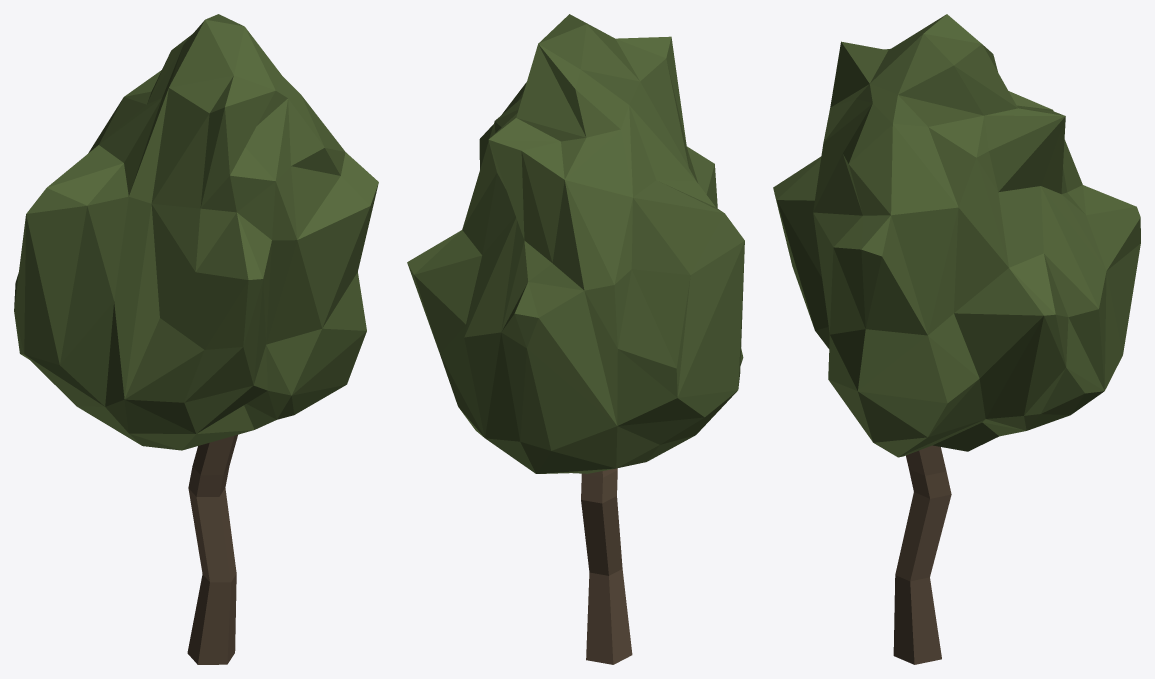
Rendered from tree_75.fbx.
The picture shows the model from 3 angles, left to right: view 1: azimuth 30°, elevation 25°; view 2: azimuth 150°, elevation 25°; view 3: azimuth 270°, elevation 25°; orthographic projection. The views are drawn at different scales.
Visible parts, largest first — view 1: tree_075; view 2: tree_075; view 3: tree_075.
Part boxes in pixels (left/top/right/bottom): tree_075: left=14, top=14, right=378, bottom=664; tree_075: left=407, top=14, right=744, bottom=664; tree_075: left=773, top=14, right=1140, bottom=664.
Bounding box in the file's own units: 0.9411 × 1.85 × 0.9596.
Materials: 1 (1 with a texture image).
